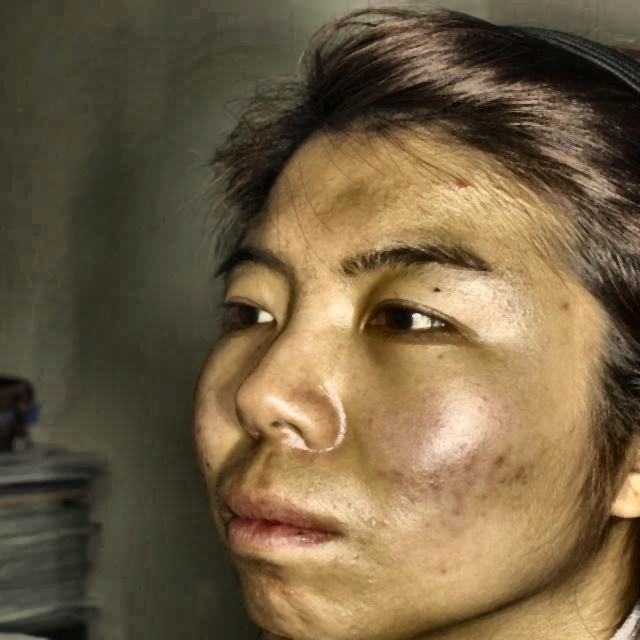comedone: (489, 445, 514, 485), (443, 171, 474, 197)
